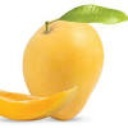mango: (22, 17, 105, 120)
